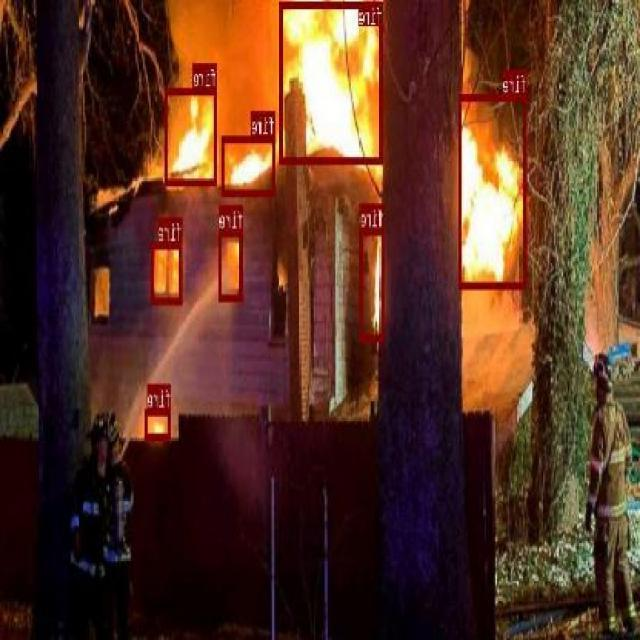Fire: (281, 1, 384, 162), (460, 93, 528, 287), (164, 88, 218, 184), (222, 136, 276, 195), (362, 227, 384, 341), (152, 240, 182, 302), (220, 229, 245, 300), (146, 408, 172, 438)
